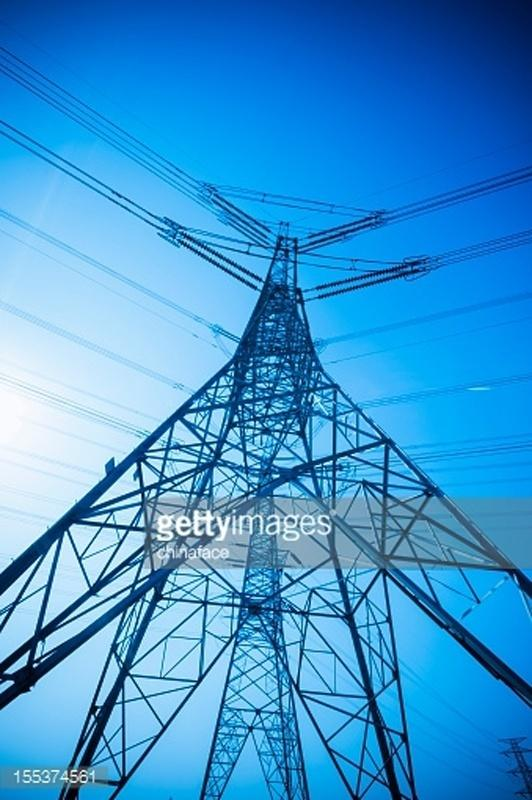power_tower: (2, 187, 518, 701)
